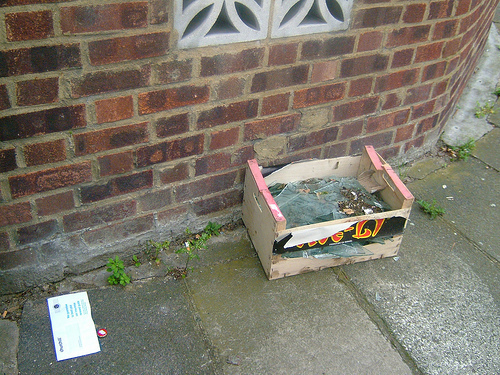litter: (46, 289, 100, 360), (97, 329, 106, 339)
